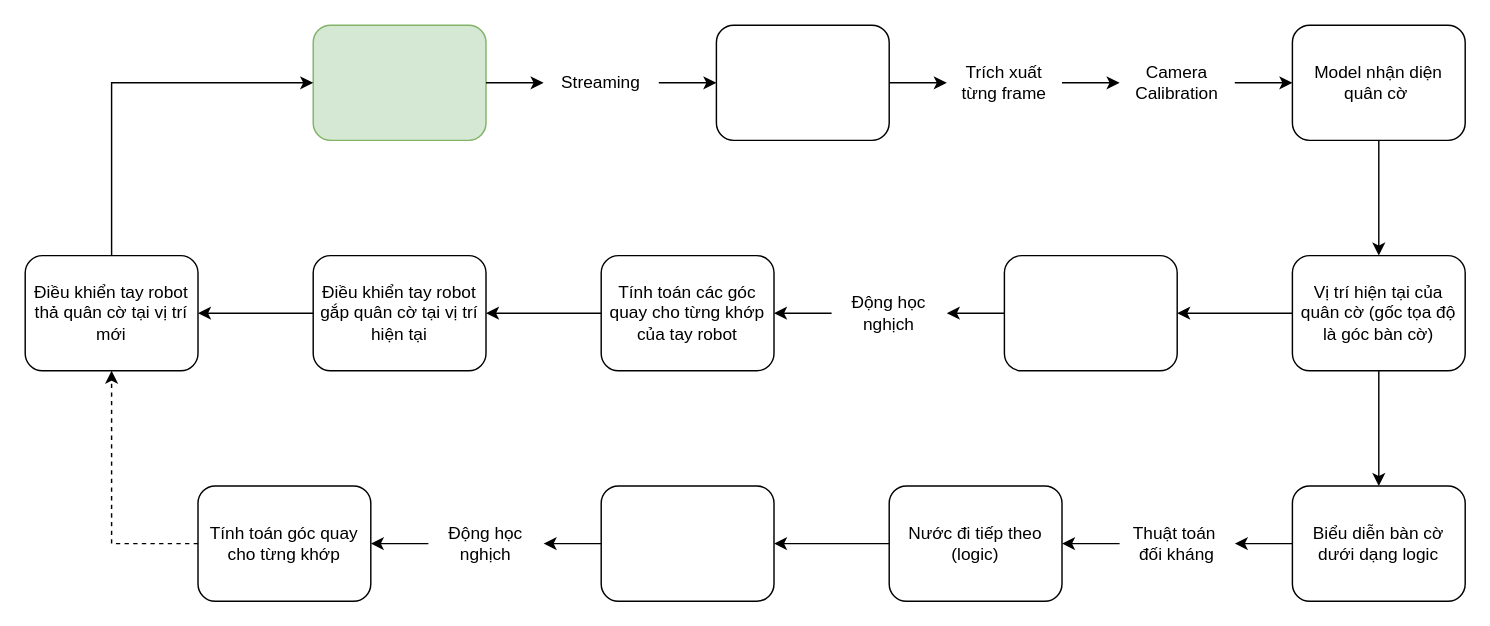
The diagram is 1490 pixels wide and 626 high, and some of its shapes have lost their labels. Here are the shapes that lost their labels. From the top down, the centre of each, then its label:
[399,82]: Bàn cờ tướng (Môi trường)
[802,82]: Camera (Webcam / Module camera)
[1090,312]: Vị trí hiện tại của quân cờ (gốc tọa độ là tay robot)
[687,543]: Vị trí mới của quân cờ so với tay robot
